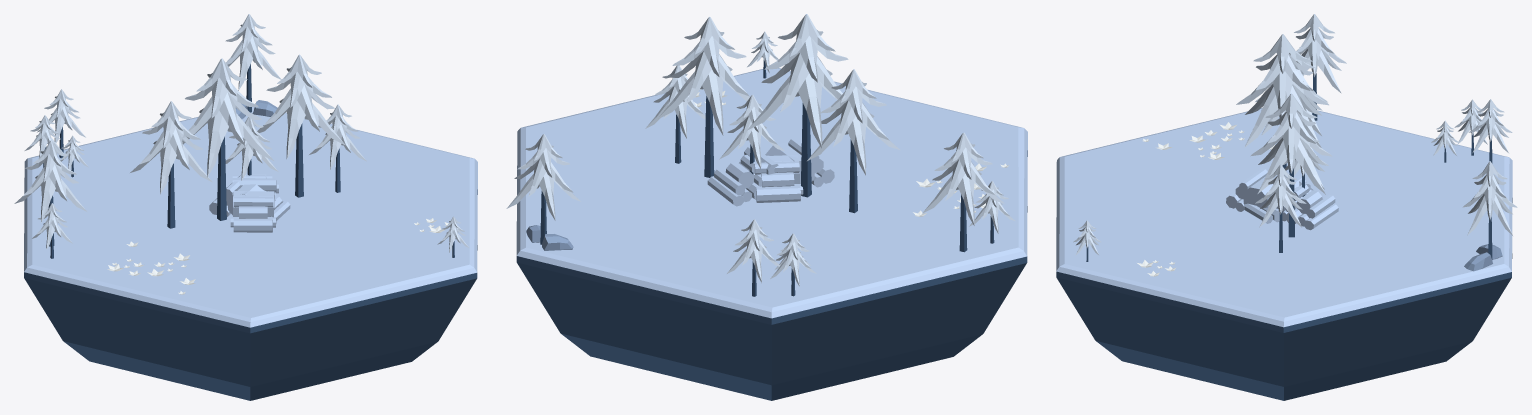
Rendered from Asset_Biome_Snow_02.fbx.
3 views of the same model, side by side, from view 1: azimuth 30°, elevation 25°; view 2: azimuth 150°, elevation 25°; view 3: azimuth 270°, elevation 25° (orthographic). The views are drawn at different scales.
Parts seen in each view (by area): view 1: Asset_Tile_Snow, PolySurface_TreeSnow_01, PolySurface_TreeSnow_07, PolySurface_TreeSnow_06, PolySurface_TreeSnow_011, PolySurface_TreeSnow_08, PolySurface_TreeSnow_02, PolySurface_TreeSnow_05, PolySurface_TreeSnow_03, PolySurface_TreeSnow_010, pCylinder3, PolySurface_TreeSnow_04 (+4 smaller); view 2: Asset_Tile_Snow, PolySurface_TreeSnow_01, PolySurface_TreeSnow_07, PolySurface_TreeSnow_06, PolySurface_TreeSnow_011, PolySurface_TreeSnow_08, PolySurface_TreeSnow_03, PolySurface_TreeSnow_02, PolySurface_TreeSnow_05, PolySurface_TreeSnow_04, PolySurface_TreeSnow_010, pCylinder3 (+2 smaller); view 3: Asset_Tile_Snow, PolySurface_TreeSnow_01, PolySurface_TreeSnow_07, PolySurface_TreeSnow_08, PolySurface_TreeSnow_011, PolySurface_TreeSnow_02, PolySurface_TreeSnow_05, PolySurface_TreeSnow_04, PolySurface_TreeSnow_06, PolySurface_TreeSnow_09, PolySurface_TreeSnow_012, pCylinder2.
Boxes of the visible parts, left/top/right/bottom form: Asset_Tile_Snow: left=24, top=107, right=477, bottom=400; PolySurface_TreeSnow_01: left=182, top=58, right=273, bottom=220; PolySurface_TreeSnow_07: left=257, top=54, right=345, bottom=197; PolySurface_TreeSnow_06: left=130, top=101, right=212, bottom=228; PolySurface_TreeSnow_011: left=14, top=140, right=86, bottom=246; PolySurface_TreeSnow_08: left=225, top=14, right=281, bottom=112; PolySurface_TreeSnow_02: left=309, top=104, right=366, bottom=192; PolySurface_TreeSnow_05: left=37, top=89, right=85, bottom=158; PolySurface_TreeSnow_03: left=225, top=117, right=278, bottom=180; PolySurface_TreeSnow_010: left=32, top=203, right=72, bottom=258; pCylinder3: left=233, top=218, right=272, bottom=232; PolySurface_TreeSnow_04: left=24, top=115, right=63, bottom=167; Asset_Tile_Snow: left=516, top=68, right=1027, bottom=400; PolySurface_TreeSnow_01: left=747, top=14, right=848, bottom=197; PolySurface_TreeSnow_07: left=657, top=17, right=761, bottom=177; PolySurface_TreeSnow_06: left=807, top=69, right=900, bottom=213; PolySurface_TreeSnow_011: left=922, top=132, right=1004, bottom=252; PolySurface_TreeSnow_08: left=506, top=134, right=580, bottom=244; PolySurface_TreeSnow_03: left=719, top=94, right=784, bottom=173; PolySurface_TreeSnow_02: left=645, top=65, right=705, bottom=163; PolySurface_TreeSnow_05: left=727, top=219, right=780, bottom=296; PolySurface_TreeSnow_04: left=770, top=233, right=816, bottom=296; PolySurface_TreeSnow_010: left=969, top=180, right=1015, bottom=243; pCylinder3: left=756, top=185, right=800, bottom=202; Asset_Tile_Snow: left=1056, top=107, right=1512, bottom=400; PolySurface_TreeSnow_01: left=1236, top=34, right=1328, bottom=170; PolySurface_TreeSnow_07: left=1250, top=93, right=1332, bottom=237; PolySurface_TreeSnow_08: left=1462, top=161, right=1517, bottom=259; PolySurface_TreeSnow_011: left=1294, top=14, right=1346, bottom=120; PolySurface_TreeSnow_02: left=1255, top=164, right=1306, bottom=252; PolySurface_TreeSnow_05: left=1468, top=99, right=1512, bottom=163; PolySurface_TreeSnow_04: left=1454, top=99, right=1487, bottom=155; PolySurface_TreeSnow_06: left=1255, top=53, right=1327, bottom=172; PolySurface_TreeSnow_09: left=1431, top=120, right=1459, bottom=162; PolySurface_TreeSnow_012: left=1073, top=220, right=1101, bottom=261; pCylinder2: left=1243, top=175, right=1277, bottom=209.
Size of the model in its own units: 436 by 258 by 382.
